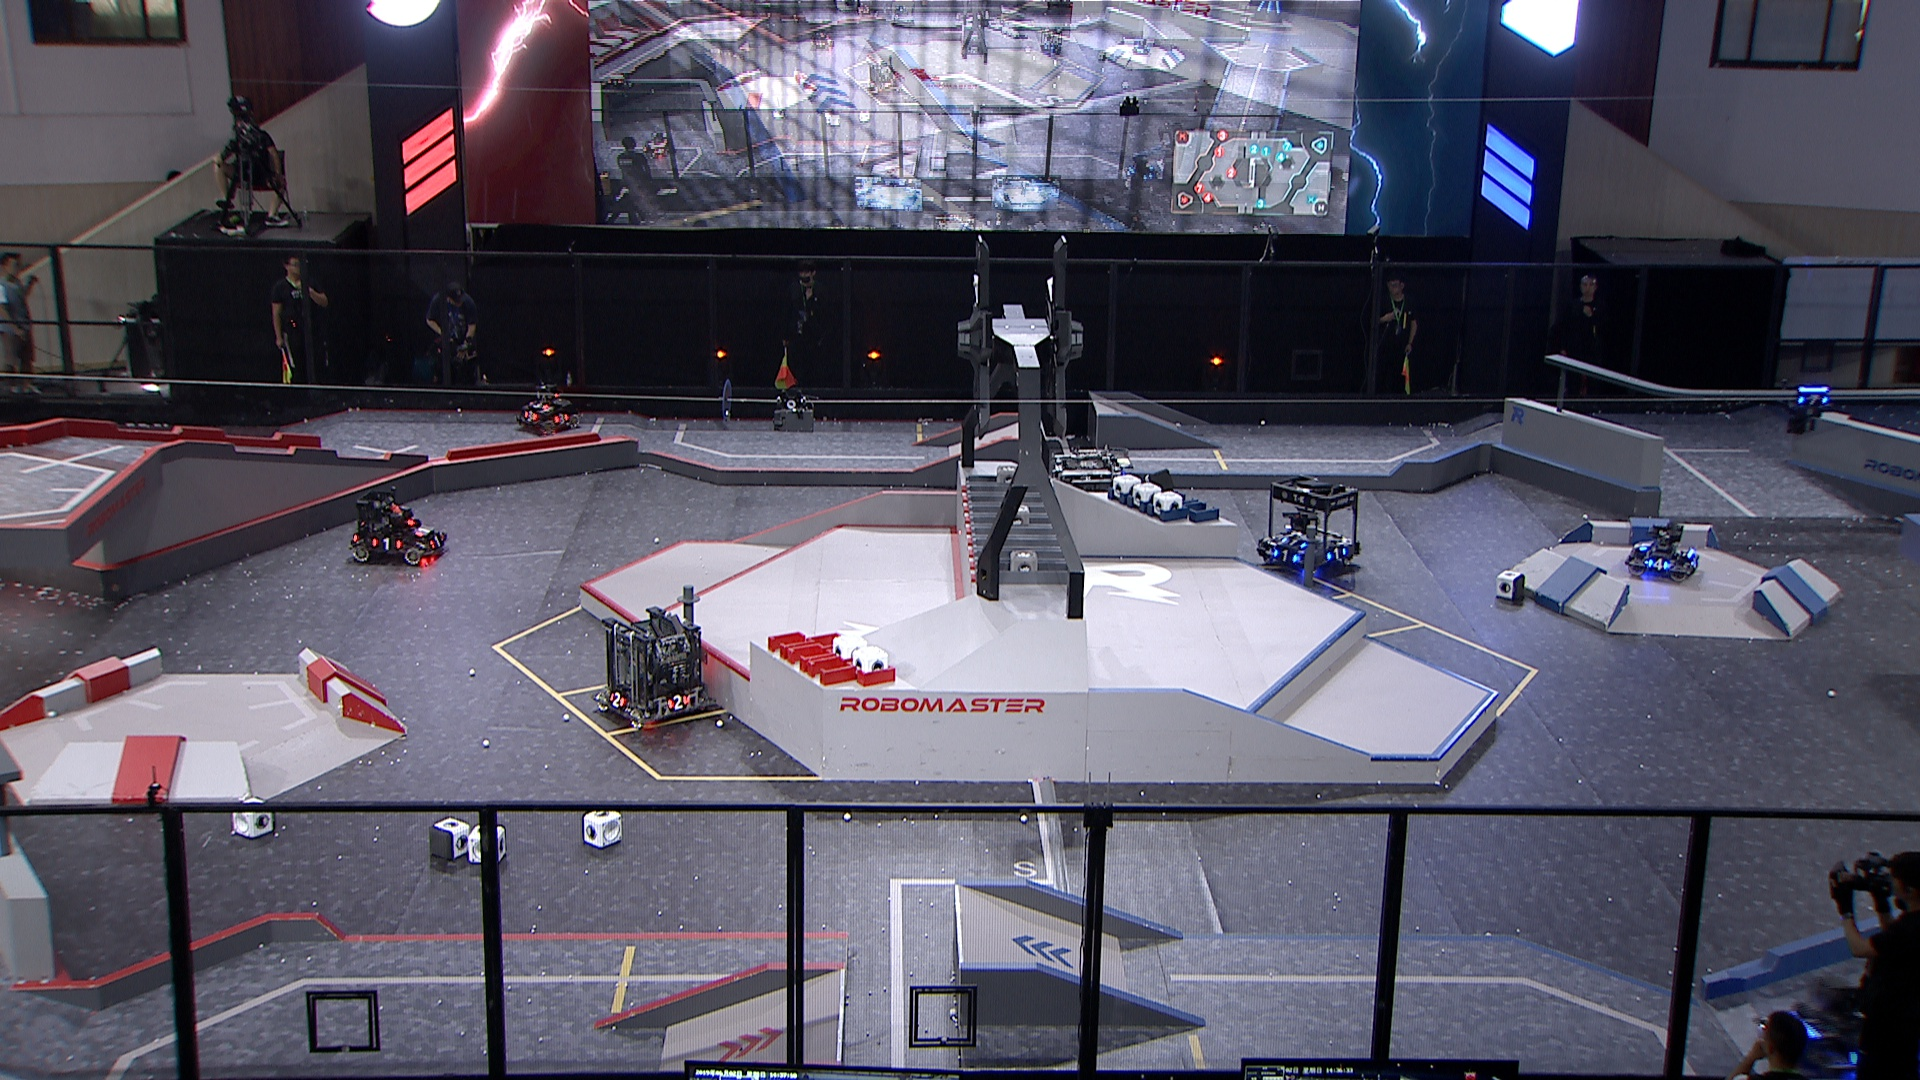armor: (661, 692, 694, 712), (1273, 547, 1298, 564), (1799, 392, 1826, 406), (371, 537, 400, 550), (609, 690, 628, 709), (1328, 546, 1348, 560), (1282, 534, 1302, 549), (527, 398, 549, 410), (553, 410, 570, 425), (429, 531, 442, 550), (1648, 559, 1667, 571), (524, 407, 537, 422), (1638, 537, 1650, 553), (415, 524, 430, 535)
car: (591, 604, 721, 727), (1770, 975, 1888, 1080), (1258, 472, 1365, 583), (1048, 443, 1153, 538), (348, 484, 447, 570), (1626, 513, 1702, 585), (517, 381, 582, 439)
ignore: (866, 58, 903, 98), (1038, 24, 1069, 59), (1125, 153, 1158, 183), (642, 133, 673, 162), (807, 30, 836, 53), (1133, 36, 1153, 55)
watcher: (1783, 368, 1832, 431)
